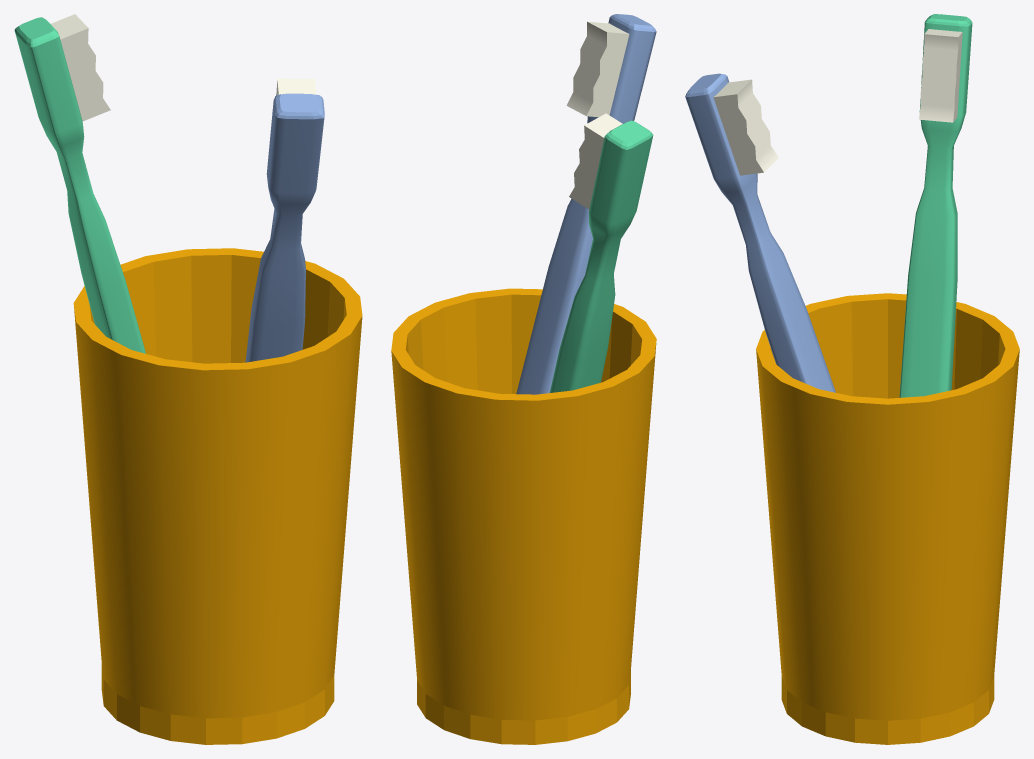
Rendered from ToothBrushGroup2.fbx.
3 views of the same model, side by side, from view 1: azimuth 30°, elevation 25°; view 2: azimuth 150°, elevation 25°; view 3: azimuth 270°, elevation 25° (orthographic). The views are drawn at different scales.
Parts seen in each view (by area): view 1: Cup, pCube137 (×2), pCube138 (×2); view 2: Cup, pCube137 (×2), pCube138 (×2); view 3: Cup, pCube137 (×2), pCube138 (×2).
Boxes of the visible parts, bbox=[...] form: Cup: bbox=[73, 248, 362, 744]; pCube137 (×2): bbox=[14, 17, 324, 362]; pCube138 (×2): bbox=[51, 14, 316, 121]; Cup: bbox=[391, 288, 656, 744]; pCube137 (×2): bbox=[516, 14, 656, 394]; pCube138 (×2): bbox=[566, 21, 629, 209]; Cup: bbox=[756, 293, 1019, 744]; pCube137 (×2): bbox=[685, 14, 972, 397]; pCube138 (×2): bbox=[713, 29, 962, 175].
Size of the model in its own units: 18.43 by 41.43 by 20.28.
